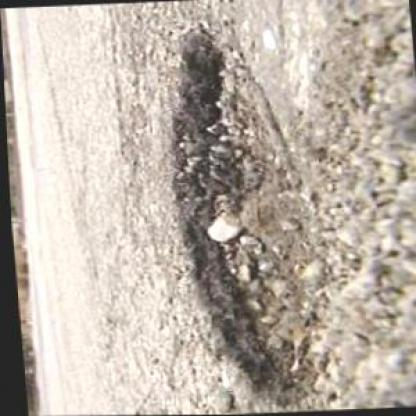pothole: (157, 24, 364, 411)
